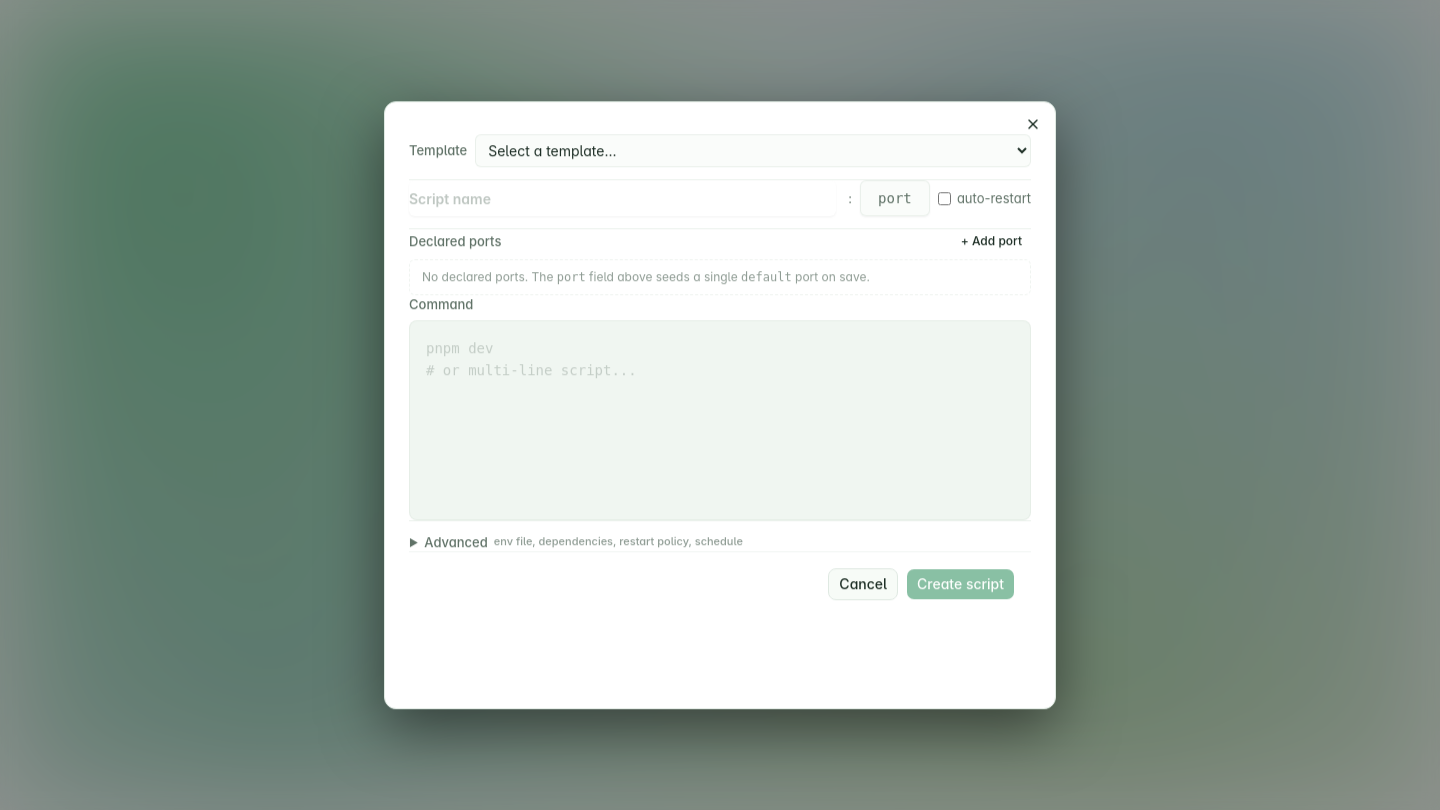
Test: ScriptEditor progressive disclosure › reveals Advanced fields on toggle
The width and height of the screenshot is (1440, 810).
Click the button "▶ Advanced env file, dependencies, restart policy, schedule".
click(576, 542)  # box [409, 533, 743, 552]
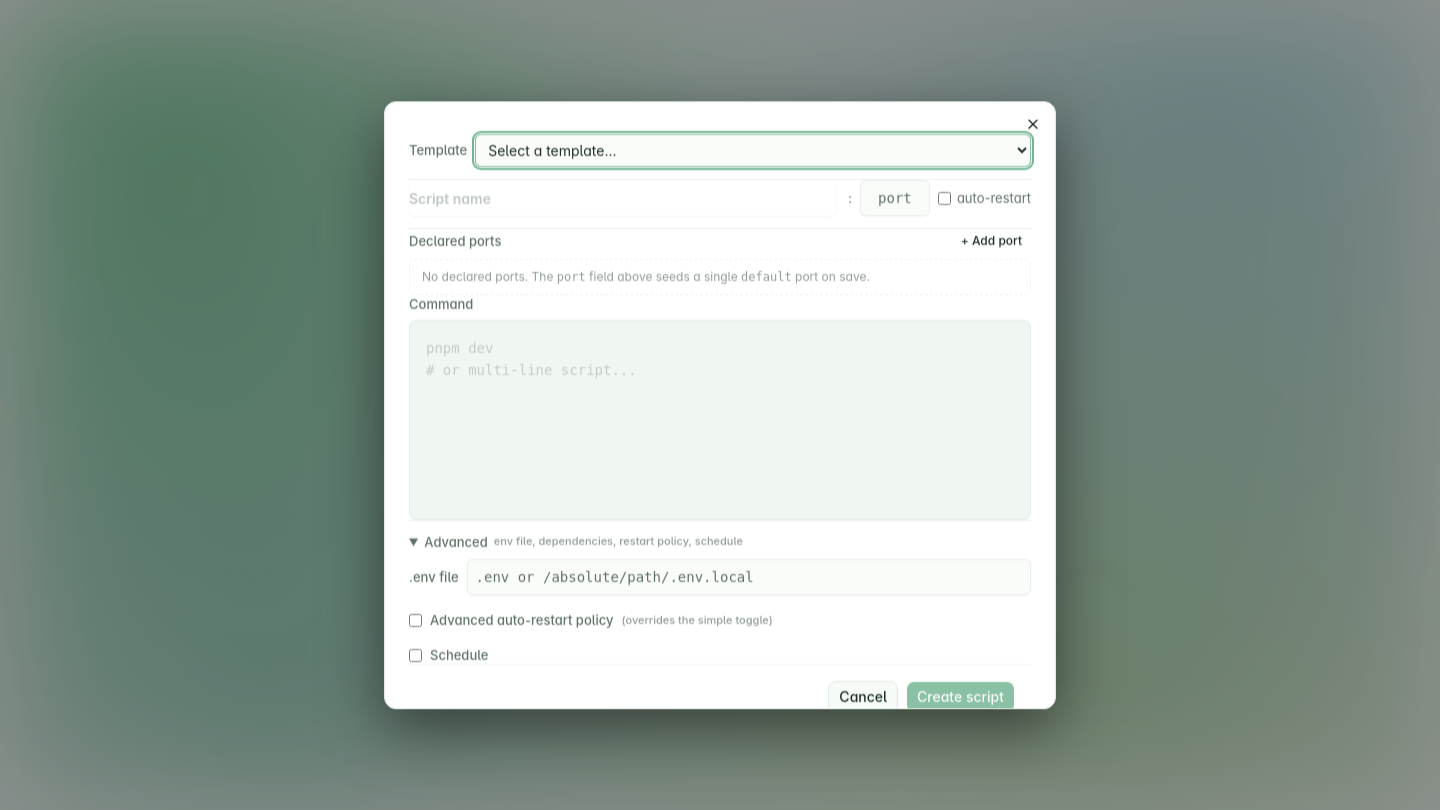
Result: the button "▶ Advanced env file, dependencies, restart policy, schedule" is expanded at [409, 533, 743, 552]
Result: the text ".env file" is shown at [409, 568, 458, 587]
Result: the text "Schedule" is shown at [409, 647, 488, 663]
